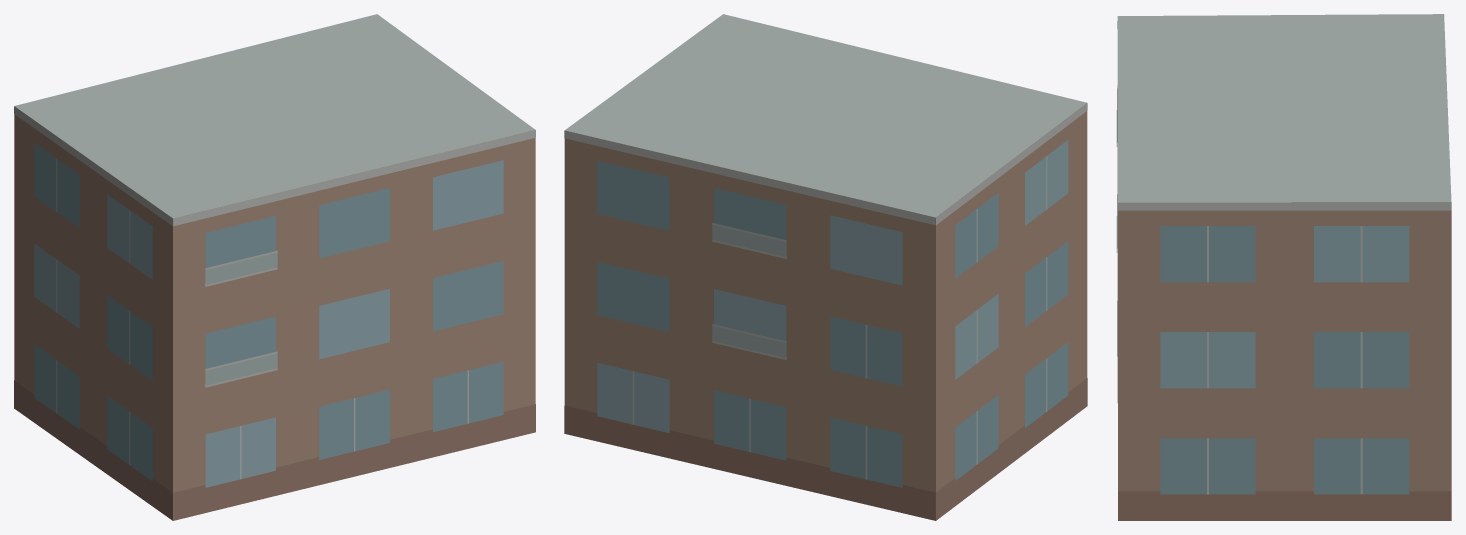
File: survey-upis-32818548.glb
The picture shows the model from 3 angles, left to right: view 1: azimuth 30°, elevation 25°; view 2: azimuth 150°, elevation 25°; view 3: azimuth 270°, elevation 25°; orthographic projection. The views are drawn at different scales.
Parts seen in each view (by area): view 1: survey-upis-32818548.tmp; view 2: survey-upis-32818548.tmp; view 3: survey-upis-32818548.tmp.
Boxes of the visible parts, bbox=[...] form: survey-upis-32818548.tmp: bbox=[14, 14, 535, 520]; survey-upis-32818548.tmp: bbox=[564, 14, 1087, 520]; survey-upis-32818548.tmp: bbox=[1116, 14, 1451, 520].
Size of the model in its own units: 11.95 by 9.4 by 8.98.
